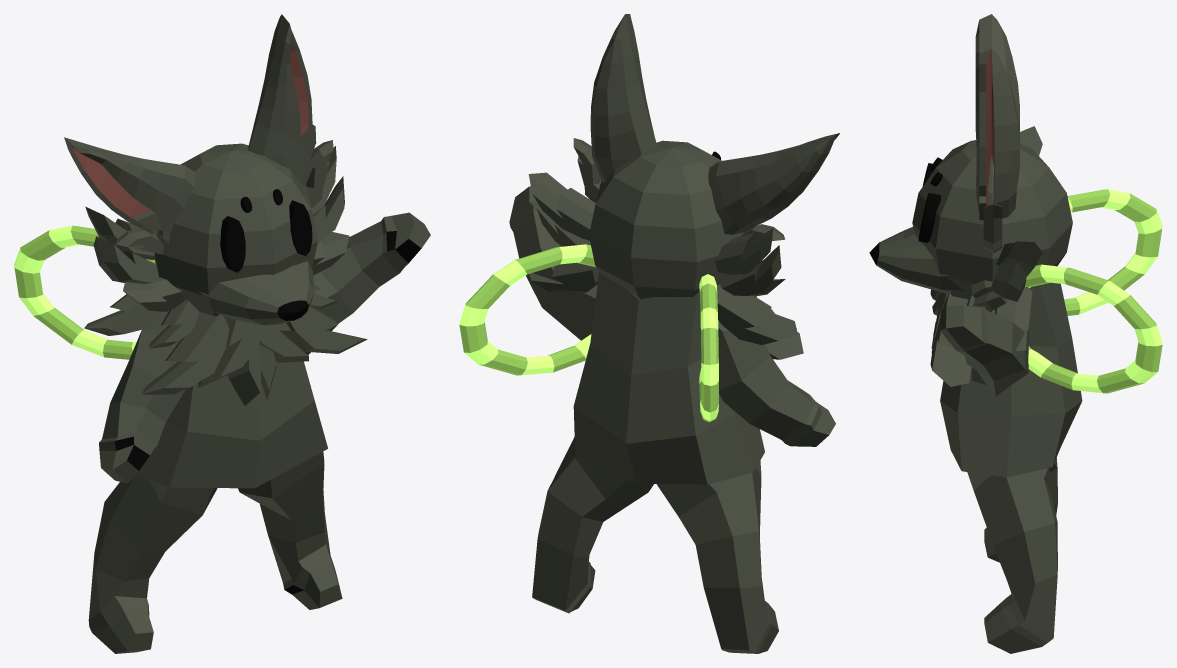
File: vile (2).fbx
3 renders of one model, left to right at view 1: azimuth 30°, elevation 25°; view 2: azimuth 150°, elevation 25°; view 3: azimuth 270°, elevation 25°, orthographic. The views are drawn at different scales.
Parts seen in each view (by area): view 1: Cube.004, Cube, Sphere, Cube.005, Vert, Vert.012, Cube.002, Vert.007, Torus, Cone, Vert.005, Vert.003 (+8 smaller); view 2: Cube, Cube.004, Sphere, Torus, Cube.005, Vert, Vert.012, Vert.006, Cube.002, Vert.002, Vert.003, Vert.010 (+1 smaller); view 3: Cube, Sphere, Cube.004, Torus, Vert.012, Cube.002, Cone, Vert.007, Vert, Vert.002, Vert.003, Vert.006 (+3 smaller).
Boxes of the visible parts, x1,y1,x2,y2 form: Cube.004: (88, 452, 342, 653); Cube: (136, 312, 327, 488); Sphere: (154, 143, 317, 318); Cube.005: (99, 311, 185, 483); Vert: (64, 137, 195, 243); Vert.012: (248, 14, 316, 186); Cube.002: (304, 212, 430, 354); Vert.007: (141, 306, 367, 394); Torus: (14, 225, 155, 359); Cone: (196, 261, 314, 325); Vert.005: (198, 318, 308, 387); Vert.003: (93, 176, 344, 283); Cube: (573, 272, 764, 484); Cube.004: (532, 437, 778, 653); Sphere: (589, 140, 743, 299); Torus: (459, 244, 718, 422); Cube.005: (718, 321, 835, 446); Vert: (708, 133, 839, 234); Vert.012: (590, 14, 657, 182); Vert.006: (529, 263, 797, 344); Cube.002: (509, 186, 597, 340); Vert.002: (528, 172, 773, 274); Vert.003: (537, 203, 781, 295); Vert.010: (573, 138, 601, 202); Cube: (940, 282, 1082, 477); Sphere: (912, 140, 1072, 299); Cube.004: (967, 458, 1057, 653); Torus: (1025, 189, 1162, 393); Vert.012: (975, 48, 1019, 220); Cube.002: (940, 305, 1028, 396); Cone: (869, 227, 963, 293); Vert.007: (930, 289, 971, 386); Vert: (975, 14, 1019, 134); Vert.002: (996, 126, 1042, 275); Vert.003: (990, 263, 1027, 301); Vert.006: (995, 286, 1032, 351).
Bounding box in the file's own units: 440 × 745 × 340.
